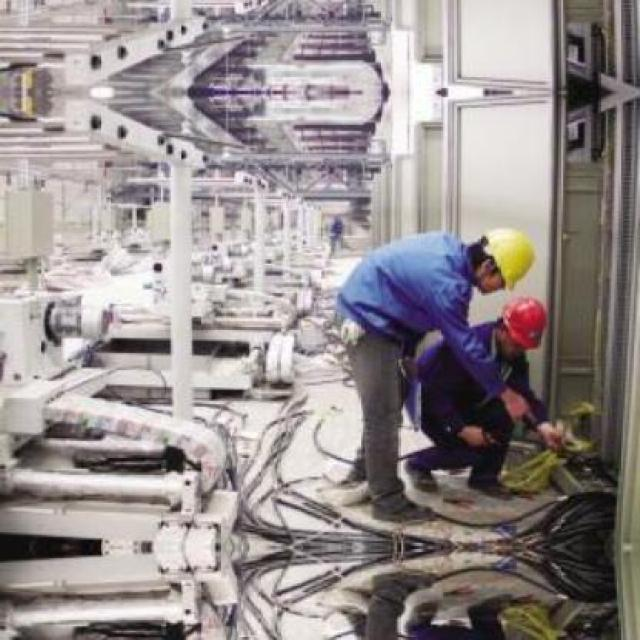helmet: (465, 222, 541, 296), (496, 290, 547, 353)
